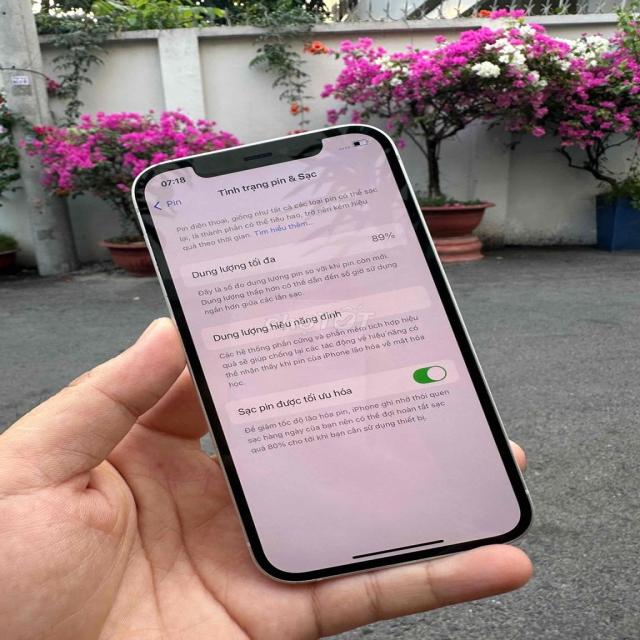gen_12_13: (120, 116, 533, 584)
